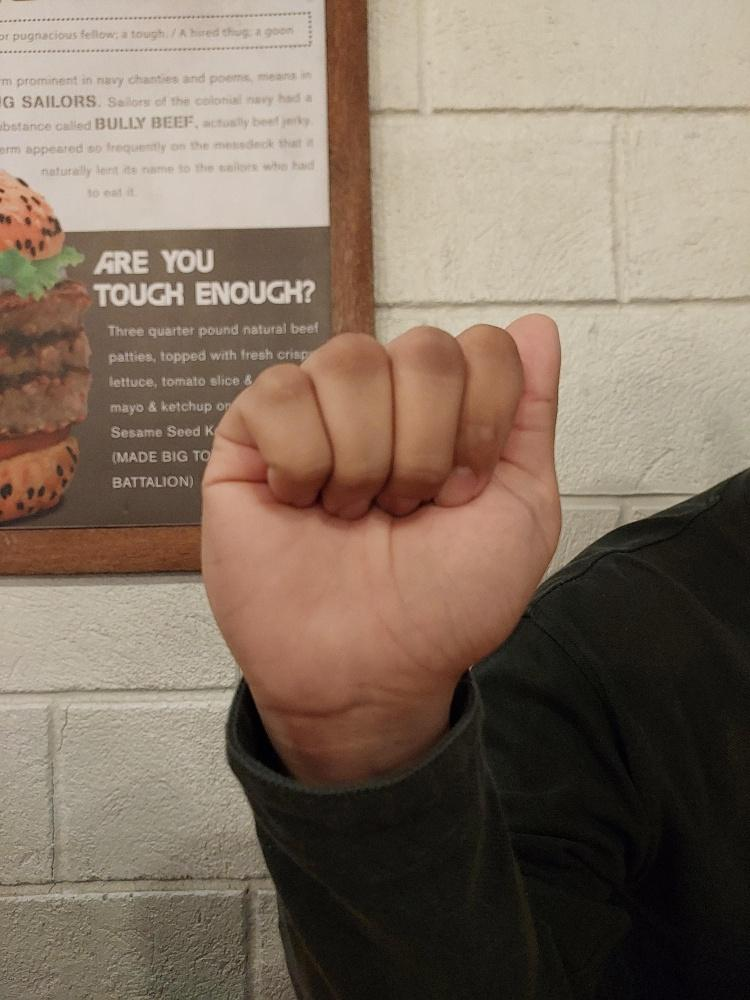a: (196, 308, 565, 718)
